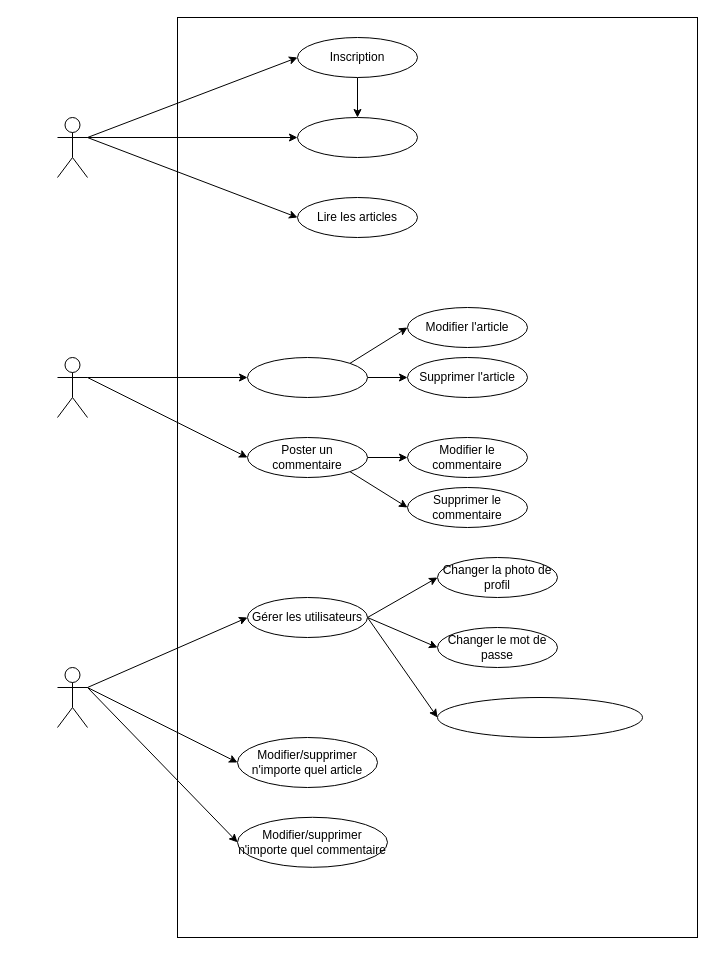
The diagram is 715 pixels wide and 955 high, and some of its shapes have lost their labels. The centre of each missing label's shape, as x and y in pixels:
"Activer/désactiver les droits administrateurs" belongs at (539,717).
"Administrateur" belongs at (72,697).
"Connexion" belongs at (357,137).
"Poster un article" belongs at (307,377).
"Utilisateur connecté" belongs at (72,387).
"Visiteur sans compte" belongs at (72,147).
